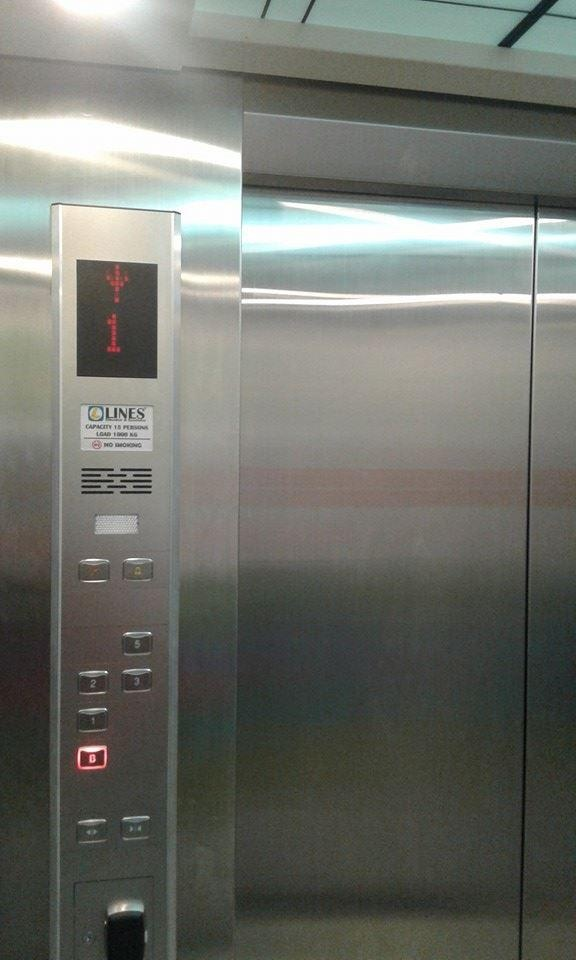1: (76, 707, 110, 734)
2: (77, 669, 110, 697)
3: (119, 667, 154, 695)
5: (121, 630, 154, 658)
B: (74, 744, 110, 772)
alarm: (120, 556, 155, 584)
blur: (76, 557, 111, 585)
close: (118, 814, 153, 843)
keyhole: (80, 928, 97, 947)
led: (74, 256, 161, 381)
open: (75, 817, 109, 846)
